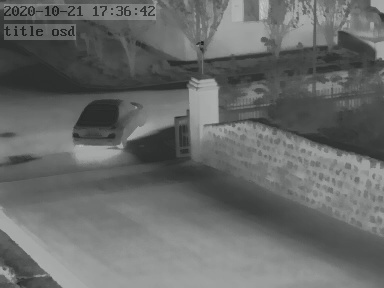vehicle: (74, 94, 149, 152)
